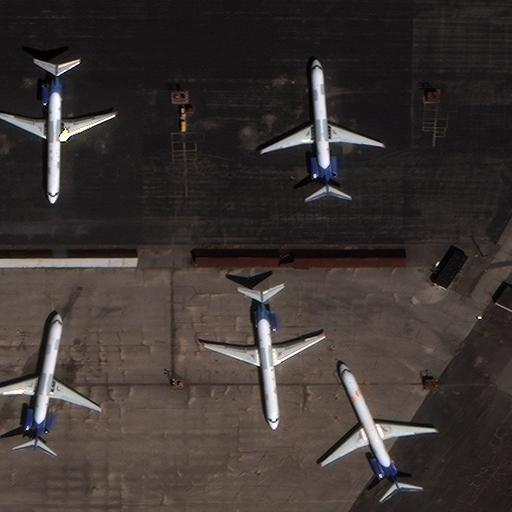Medium Civil Transport: (259, 58, 383, 199), (203, 288, 326, 429), (0, 62, 117, 203), (319, 362, 434, 494), (0, 313, 99, 452)
